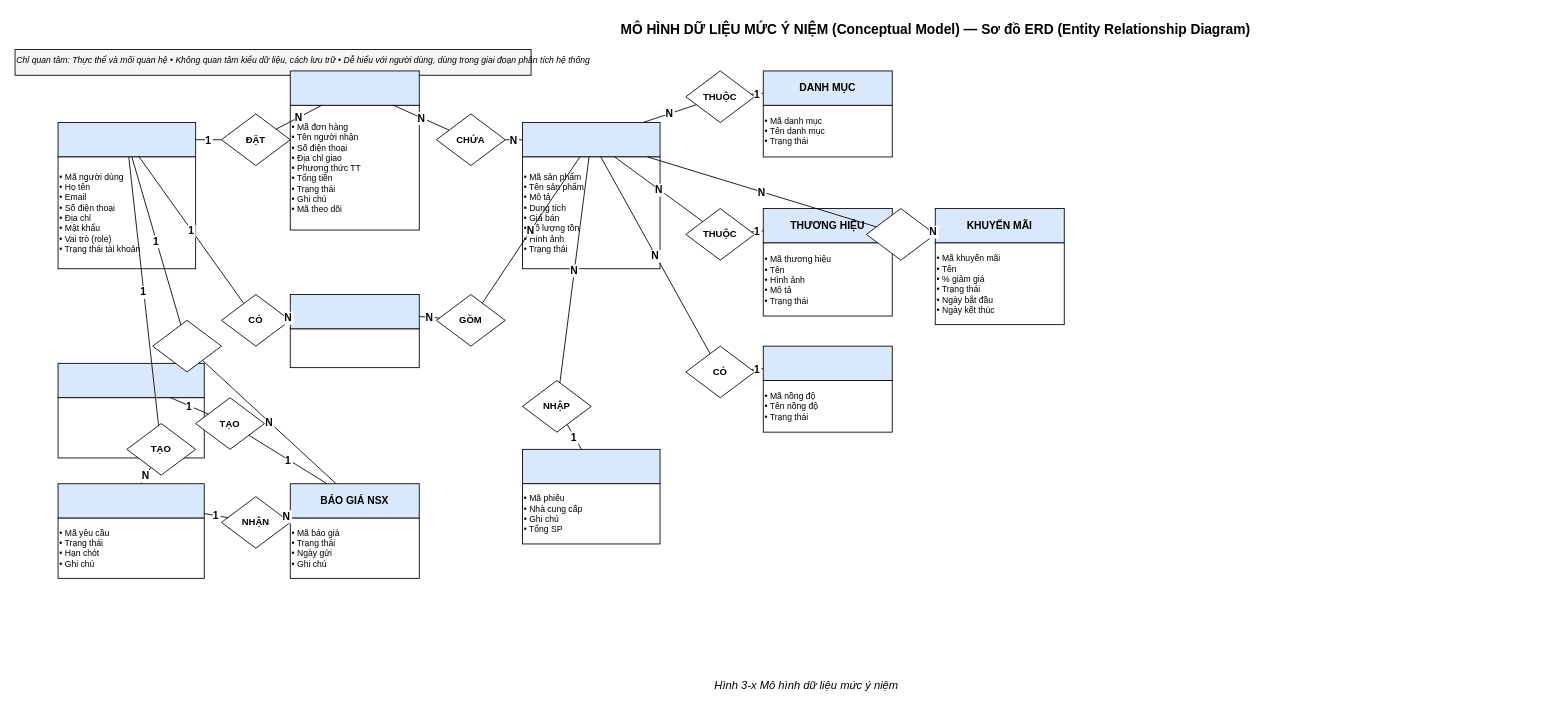
Image size: 1552x713. Some labels were removed from this diagram. Each missing label, with the box of its shape:
GIỎ HÀNG: (289, 294, 419, 329)
GỬI: (152, 319, 221, 372)
NGƯỜI DÙNG: (57, 122, 196, 157)
NỒNG ĐỘ: (762, 345, 892, 381)
PHIẾU NHẬP KHO: (522, 448, 660, 484)
SẢN PHẨM: (522, 122, 660, 157)
YÊU CẦU ĐẶT HÀNG: (57, 483, 204, 518)
ÁP DỤNG: (866, 208, 935, 260)
ĐƠN HÀNG: (289, 70, 419, 105)
ĐƠN ĐẶT HÀNG NSX: (57, 362, 204, 398)
• Mã giỏ hàng • Số lượng: (289, 328, 419, 368)
• Mã đơn • Tổng tiền • Trạng thái • Ngày dự kiến: (57, 397, 204, 458)
